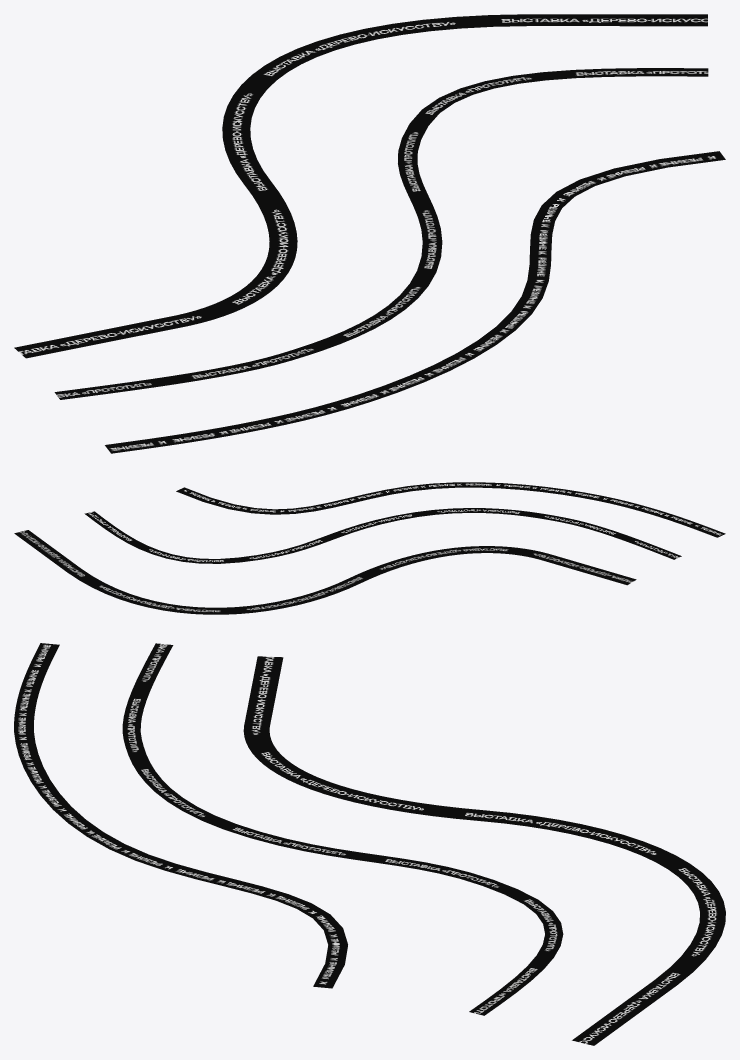
Rendered from Lines-Sign.FBX.
3 views of the same model, one above another, from view 1: azimuth 30°, elevation 25°; view 2: azimuth 150°, elevation 25°; view 3: azimuth 270°, elevation 25° (orthographic). The views are drawn at different scales.
Visible parts, largest first — view 1: Line-Sign-01, Line-Sign-02, Line-Sign-00; view 2: Line-Sign-01, Line-Sign-02, Line-Sign-00; view 3: Line-Sign-01, Line-Sign-02, Line-Sign-00.
Part boxes in pixels (<box>): Line-Sign-01: <box>14,14,707,358</box>; Line-Sign-02: <box>54,68,708,399</box>; Line-Sign-00: <box>105,151,725,453</box>; Line-Sign-01: <box>14,530,636,614</box>; Line-Sign-02: <box>84,508,681,563</box>; Line-Sign-00: <box>176,482,725,537</box>; Line-Sign-01: <box>243,656,725,1045</box>; Line-Sign-02: <box>122,643,563,1015</box>; Line-Sign-00: <box>14,643,347,988</box>.
Bounding box in the file's own units: 1197 × 6.63 × 891.
Materials: 3 (3 with a texture image).
